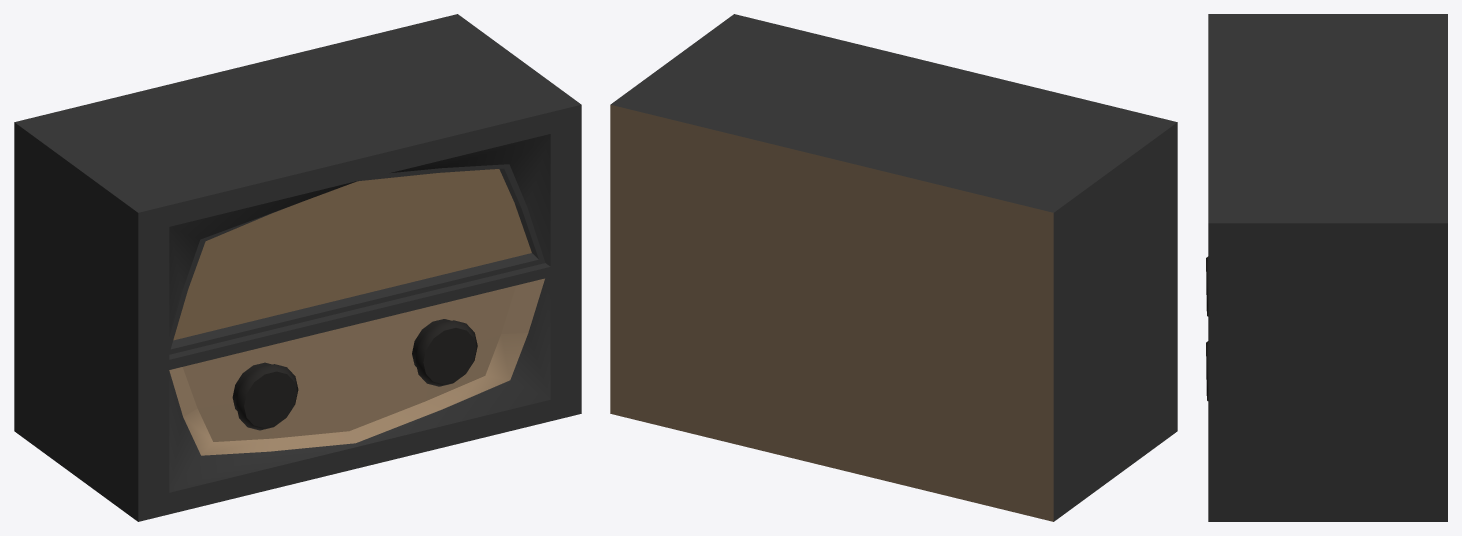
The model's file is Sem_Radio_Color.fbx.
The picture shows the model from 3 angles, left to right: view 1: azimuth 30°, elevation 25°; view 2: azimuth 150°, elevation 25°; view 3: azimuth 270°, elevation 25°; orthographic projection. The views are drawn at different scales.
Visible parts, largest first — view 1: pCylinder8; view 2: pCylinder8; view 3: pCylinder8.
Part boxes in pixels (left/top/right/bottom): pCylinder8: left=14, top=14, right=581, bottom=521; pCylinder8: left=610, top=14, right=1177, bottom=521; pCylinder8: left=1206, top=14, right=1447, bottom=521.
Bounding box in the file's own units: 2.04 × 1.36 × 0.9974.
